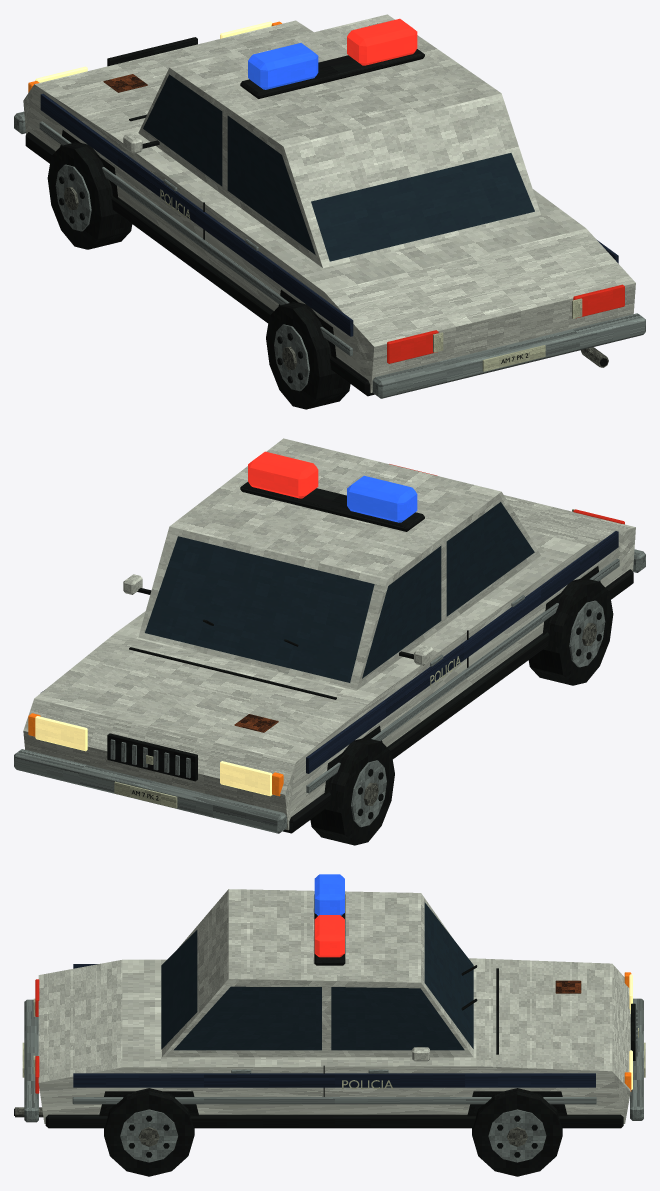
File: police_sedan.glb
3 renders of one model, top to bottom at view 1: azimuth 30°, elevation 25°; view 2: azimuth 150°, elevation 25°; view 3: azimuth 270°, elevation 25°, orthographic. The views are drawn at different scales.
Parts seen in each view (by area): view 1: Vehicle_Body, Glass_Mesh, Wheel_RL_Mesh, Wheel_FL_Mesh, Tail_Lights_Mesh, Siren_Red_Mesh, Siren_Blue_Mesh, License_Mesh, Grille_Mesh, Headlights_Mesh; view 2: Vehicle_Body, Glass_Mesh, Wheel_FL_Mesh, Wheel_RL_Mesh, Headlights_Mesh, Grille_Mesh, Siren_Red_Mesh, Siren_Blue_Mesh, License_Mesh; view 3: Vehicle_Body, Glass_Mesh, Wheel_RR_Mesh, Wheel_FR_Mesh, Siren_Red_Mesh, Siren_Blue_Mesh.
Boxes of the visible parts, x1,y1,x2,y2 form: Vehicle_Body: [14, 14, 645, 398]; Glass_Mesh: [143, 74, 534, 261]; Wheel_RL_Mesh: [266, 302, 350, 409]; Wheel_FL_Mesh: [47, 142, 132, 249]; Tail_Lights_Mesh: [387, 284, 624, 363]; Siren_Red_Mesh: [347, 18, 417, 65]; Siren_Blue_Mesh: [248, 43, 318, 89]; License_Mesh: [482, 345, 545, 371]; Grille_Mesh: [107, 37, 197, 66]; Headlights_Mesh: [35, 21, 272, 82]; Vehicle_Body: [14, 438, 645, 833]; Glass_Mesh: [145, 502, 534, 682]; Wheel_FL_Mesh: [310, 738, 394, 845]; Wheel_RL_Mesh: [528, 578, 613, 685]; Headlights_Mesh: [35, 716, 272, 796]; Grille_Mesh: [107, 733, 197, 781]; Siren_Red_Mesh: [248, 451, 318, 498]; Siren_Blue_Mesh: [347, 475, 417, 522]; License_Mesh: [114, 781, 177, 808]; Vehicle_Body: [24, 889, 643, 1128]; Glass_Mesh: [161, 902, 473, 1050]; Wheel_RR_Mesh: [104, 1088, 194, 1176]; Wheel_FR_Mesh: [472, 1088, 562, 1176]; Siren_Red_Mesh: [314, 915, 344, 957]; Siren_Blue_Mesh: [314, 874, 344, 915].
Size of the model in its own units: 2.08 by 1.65 by 4.46.
Materials: 13 (13 with a texture image).
